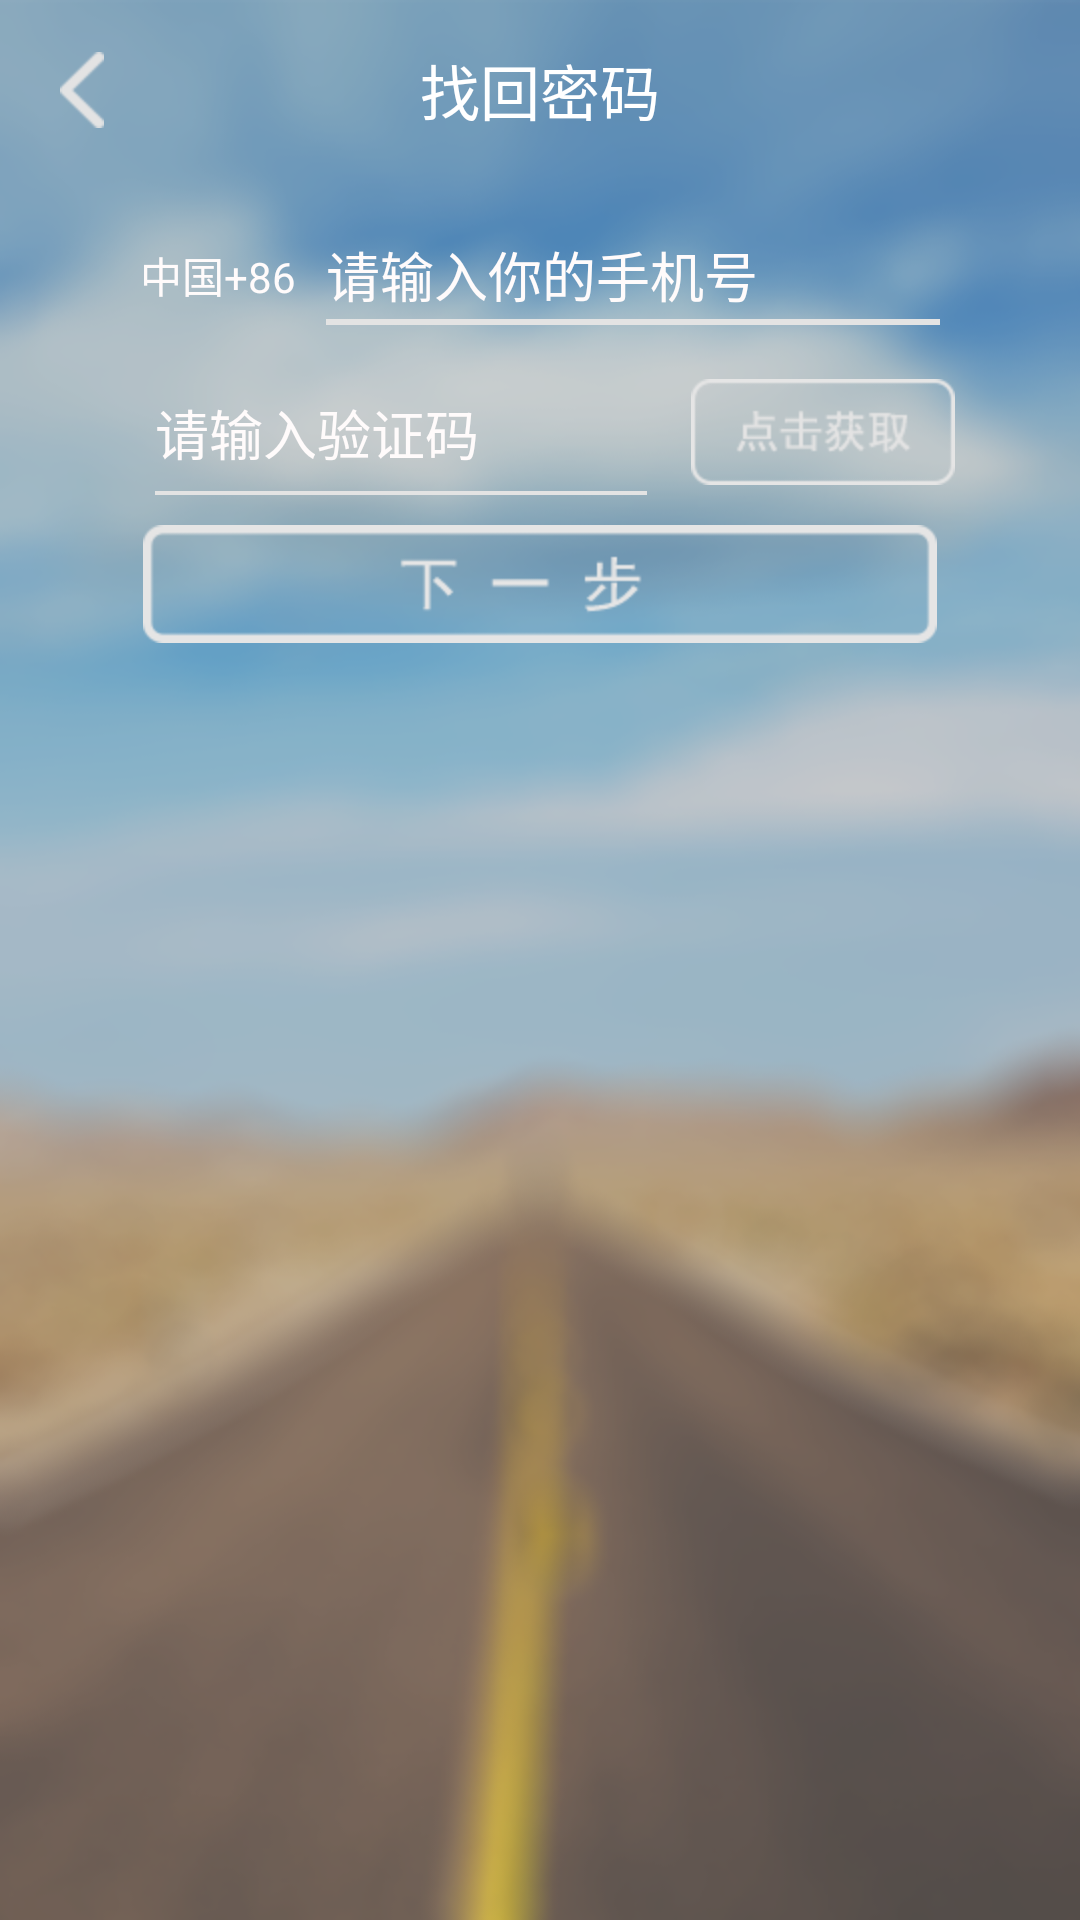

Named icons in this screenshot (1080w x 1920h) and their bounding boxes, (x1, y1, x2, y2):
registra back: (60, 52, 104, 128)
